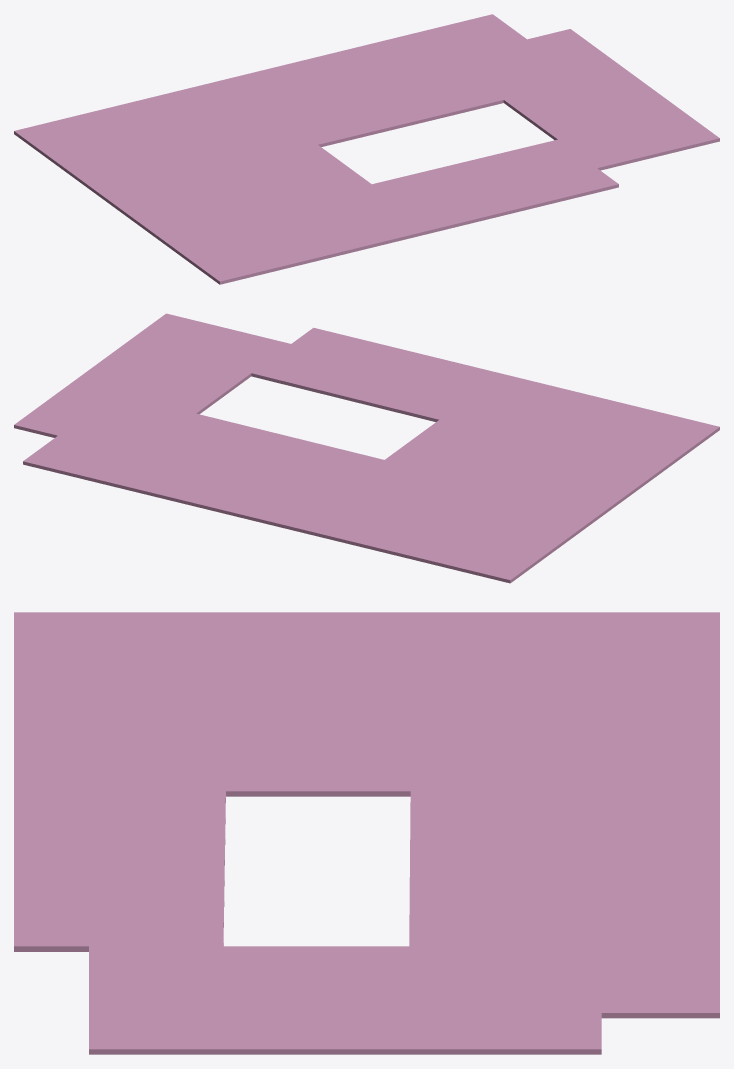
File: top.glb
The picture shows the model from 3 angles, top to bottom: view 1: azimuth 30°, elevation 25°; view 2: azimuth 150°, elevation 25°; view 3: azimuth 270°, elevation 25°; orthographic projection. The views are drawn at different scales.
Visible parts, largest first — view 1: top; view 2: top; view 3: top.
Part boxes in pixels (x1,y1,x2,y2): top: (14, 14, 719, 284); top: (14, 313, 719, 583); top: (14, 612, 719, 1054).
Bounding box in the file's own units: 22.17 × 0.1297 × 15.14.
